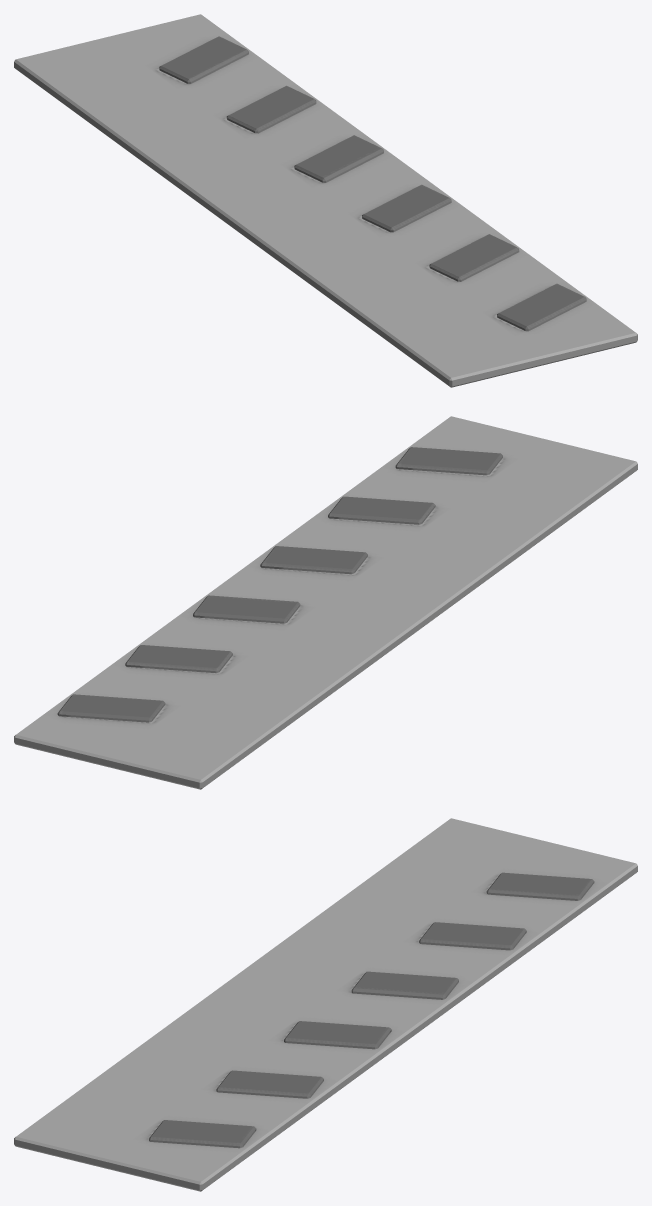
File: gaitrite.FBX
The picture shows the model from 3 angles, top to bottom: view 1: azimuth 30°, elevation 25°; view 2: azimuth 150°, elevation 25°; view 3: azimuth 330°, elevation 25°; orthographic projection.
Parts seen in each view (by area): view 1: Box001; view 2: Box001; view 3: Box001.
Part boxes in pixels (<box>): Box001: <box>14,14,637,387</box>; Box001: <box>14,416,637,789</box>; Box001: <box>14,818,637,1191</box>.
Size of the model in its own units: 1 by 0.07 by 4.01.
